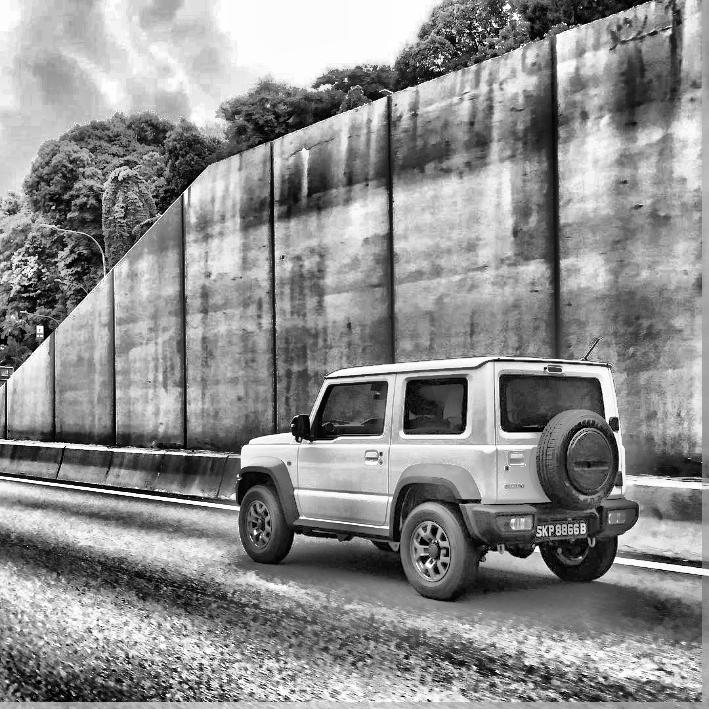License-Plates: (535, 522, 587, 538)
